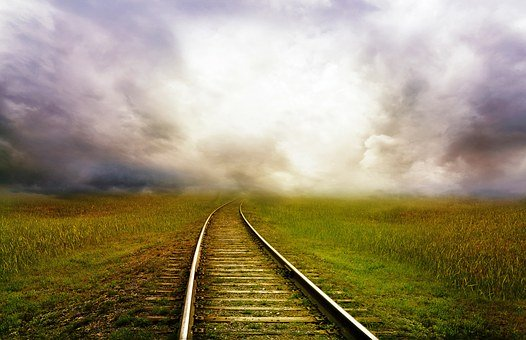field: (12, 190, 517, 340)
sky: (5, 5, 526, 193)
